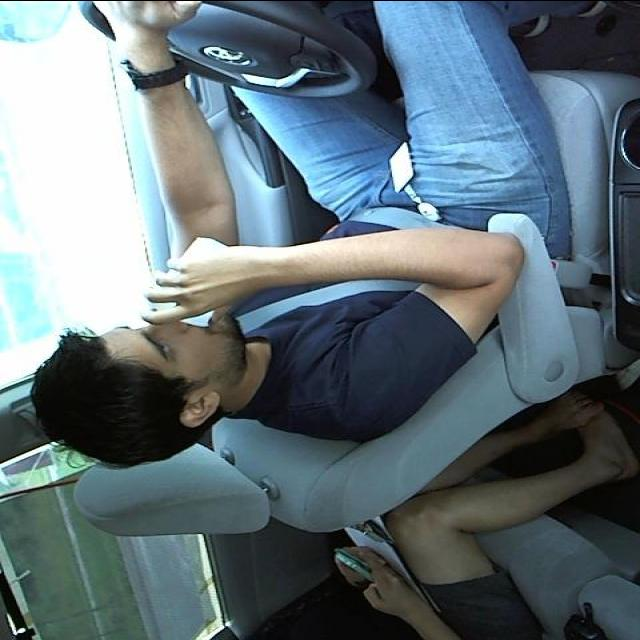drinking: (135, 233, 250, 329)
